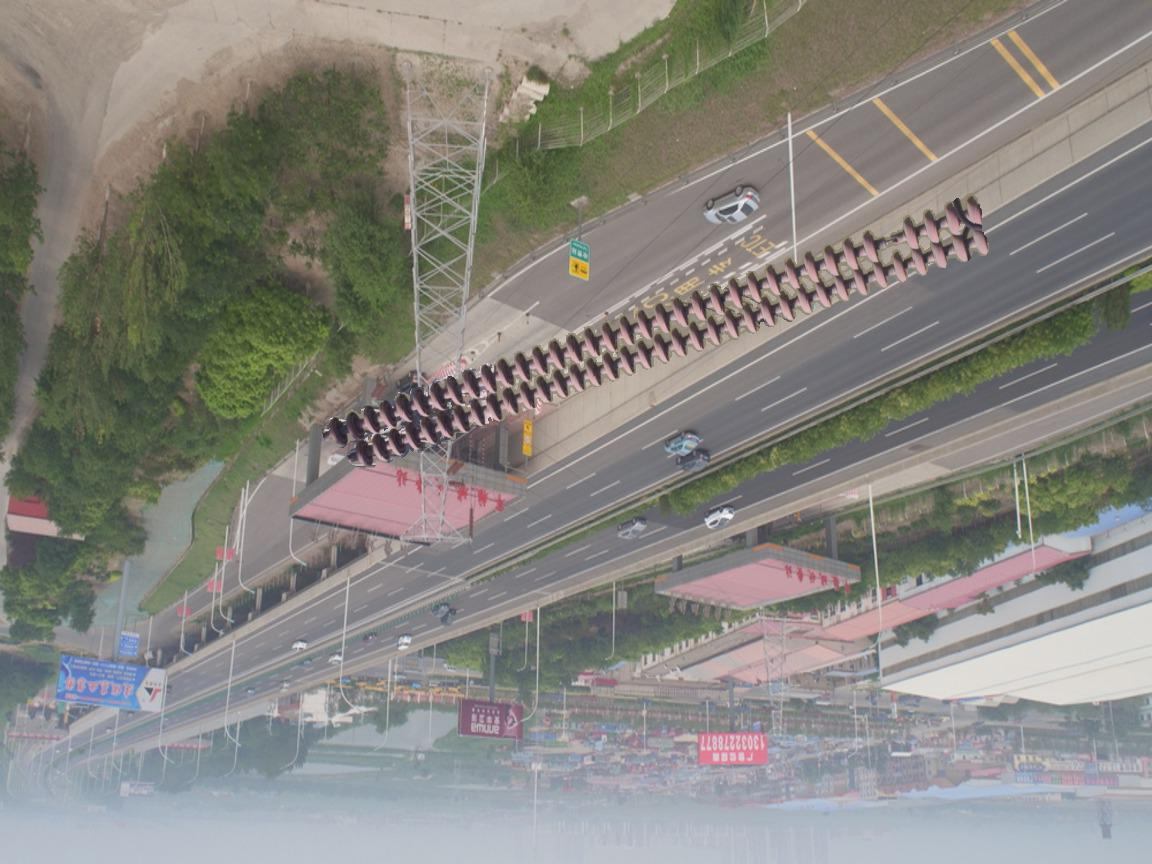insulator: (324, 192, 997, 470)
insulator_stringdrop: (860, 213, 922, 265)
